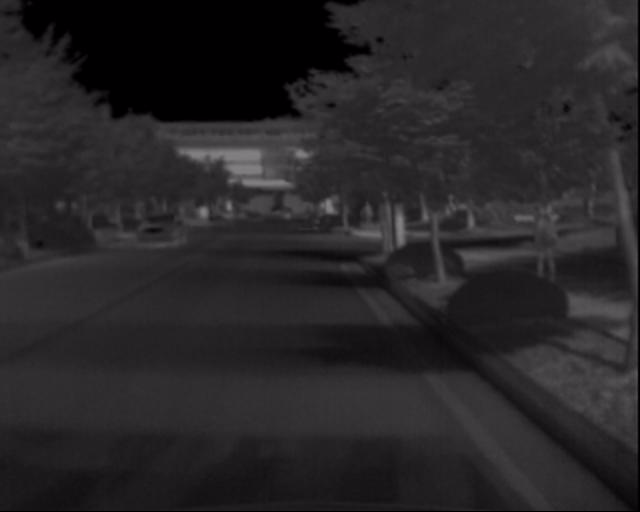person: (529, 214, 568, 296)
